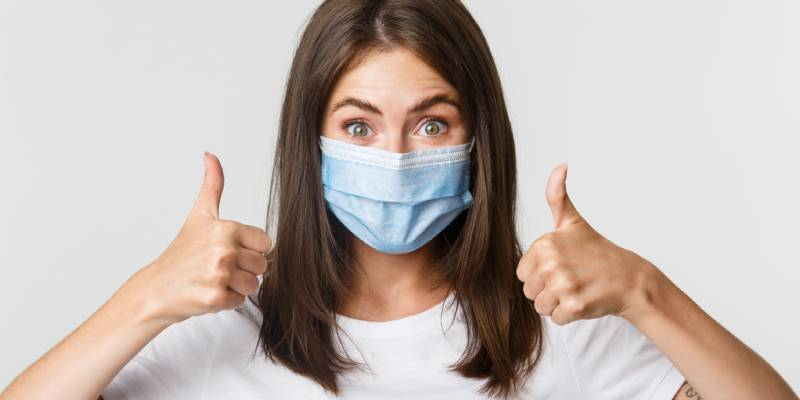with_mask: (319, 62, 476, 268)
